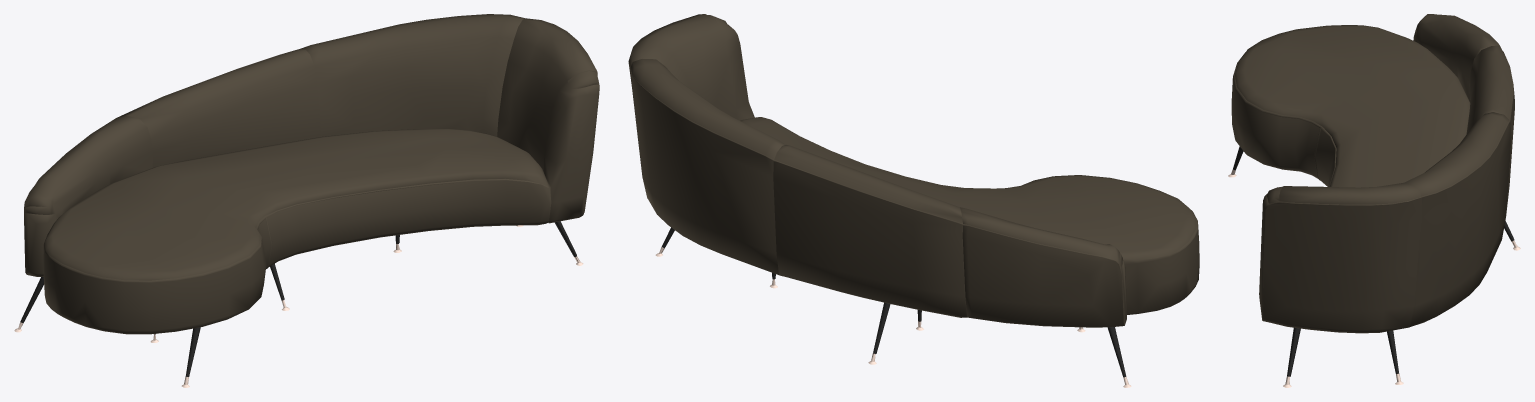
File: sofa-bege.glb
3 renders of one model, left to right at view 1: azimuth 30°, elevation 25°; view 2: azimuth 150°, elevation 25°; view 3: azimuth 270°, elevation 25°, orthographic. The views are drawn at different scales.
Parts seen in each view (by area): view 1: GlamVelvetSofa_fabric, GlamVelvetSofa_legs; view 2: GlamVelvetSofa_fabric, GlamVelvetSofa_legs; view 3: GlamVelvetSofa_fabric, GlamVelvetSofa_legs.
Part boxes in pixels (bbox=[...]): GlamVelvetSofa_fabric: bbox=[24, 14, 599, 334]; GlamVelvetSofa_legs: bbox=[20, 221, 576, 376]; GlamVelvetSofa_fabric: bbox=[628, 14, 1199, 327]; GlamVelvetSofa_legs: bbox=[662, 227, 1126, 377]; GlamVelvetSofa_fabric: bbox=[1231, 14, 1514, 333]; GlamVelvetSofa_legs: bbox=[1233, 146, 1514, 376].
Bounding box in the file's own units: 2.19 × 0.7876 × 1.02.
